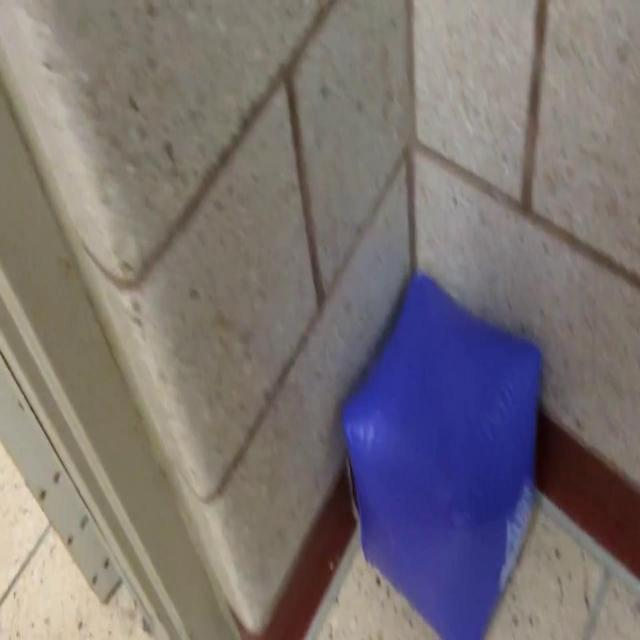frc_cube: (342, 272, 541, 640)
